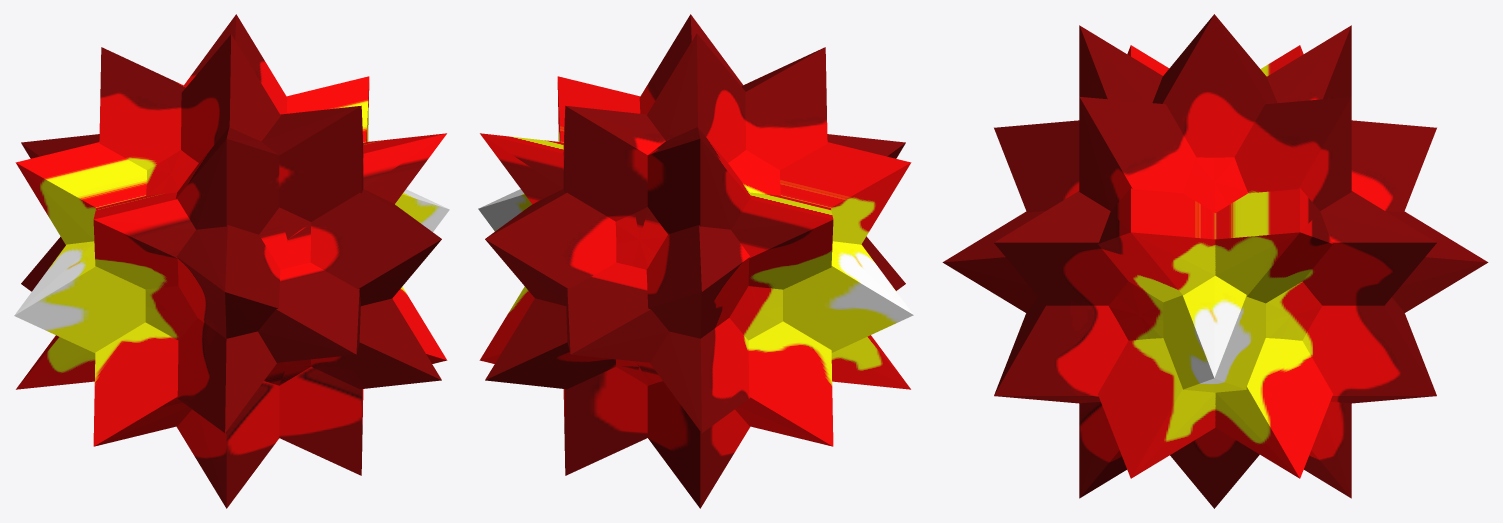
File: PSpark.glb
3 renders of one model, left to right at view 1: azimuth 30°, elevation 25°; view 2: azimuth 150°, elevation 25°; view 3: azimuth 270°, elevation 25°, orthographic. The views are drawn at different scales.
Parts seen in each view (by area): view 1: PSpark; view 2: PSpark; view 3: PSpark.
Part boxes in pixels (bbox=[...]): PSpark: bbox=[14, 14, 449, 508]; PSpark: bbox=[478, 14, 913, 508]; PSpark: bbox=[942, 14, 1488, 508].
Size of the model in its own units: 6.04 by 6.04 by 6.04.
Materials: 1 (1 with a texture image).
